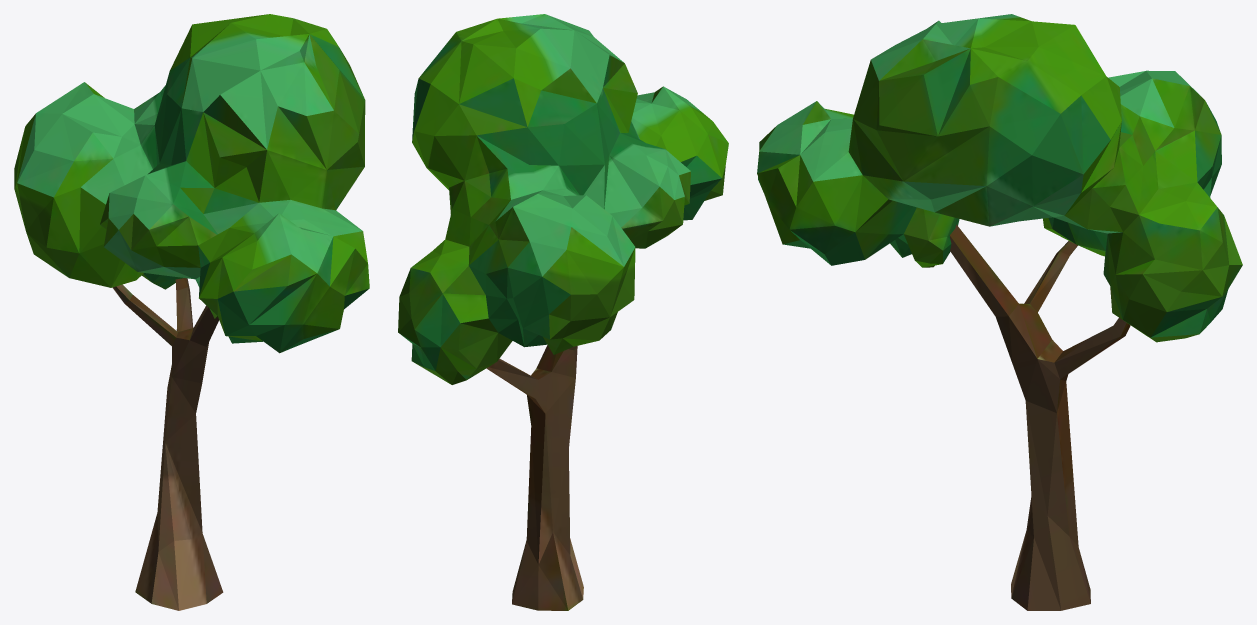
Rendered from tree_03.glb.
The picture shows the model from 3 angles, left to right: view 1: azimuth 30°, elevation 25°; view 2: azimuth 150°, elevation 25°; view 3: azimuth 270°, elevation 25°; orthographic projection. The views are drawn at different scales.
Parts seen in each view (by area): view 1: _3_tree__3_tree_0; view 2: _3_tree__3_tree_0; view 3: _3_tree__3_tree_0.
Boxes of the visible parts, x1,y1,x2,y2 form: _3_tree__3_tree_0: (14,14,369,610); _3_tree__3_tree_0: (398,14,728,610); _3_tree__3_tree_0: (757,14,1242,610).
Size of the model in its own units: 5.52 by 11 by 8.11.
Materials: 1 (1 with a texture image).
